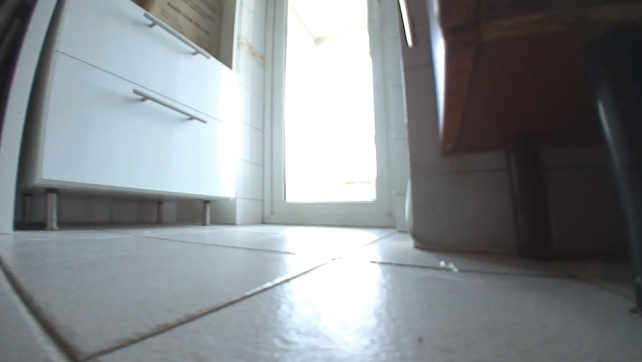door_anno: (261, 0, 397, 234)
